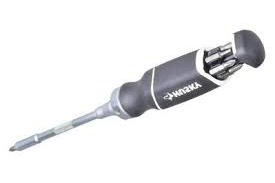Screwdriver: (8, 28, 267, 156)
